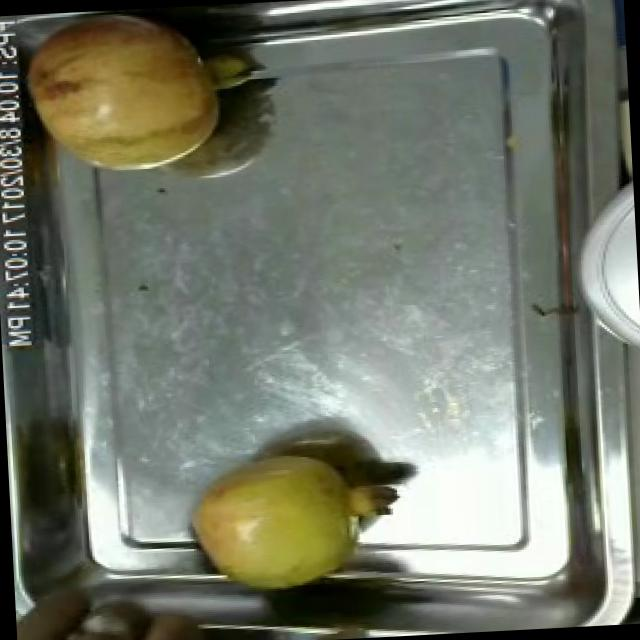fruit: (0, 3, 250, 190), (171, 442, 396, 600), (99, 610, 220, 640)
